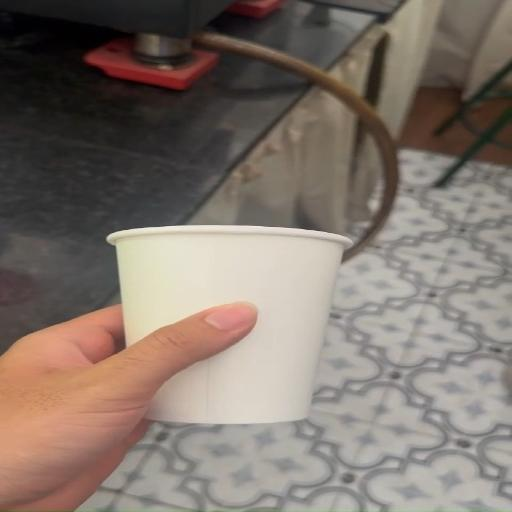ly_giay: (107, 225, 350, 424)
